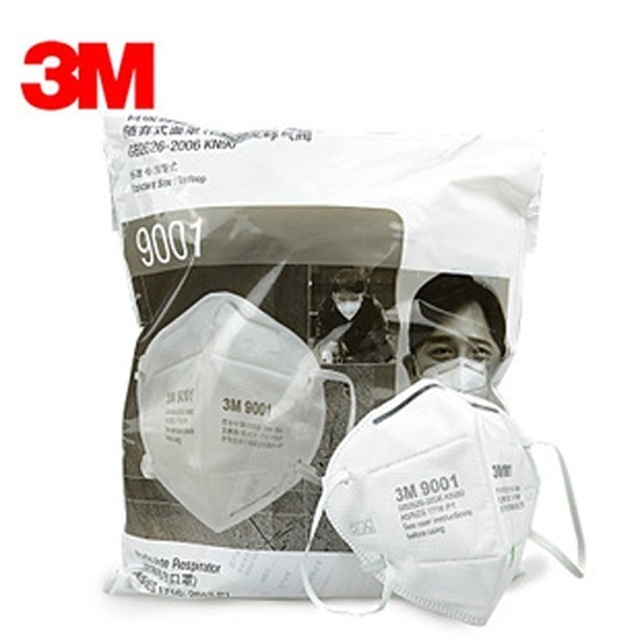mask: (299, 374, 588, 631), (130, 287, 356, 537)
